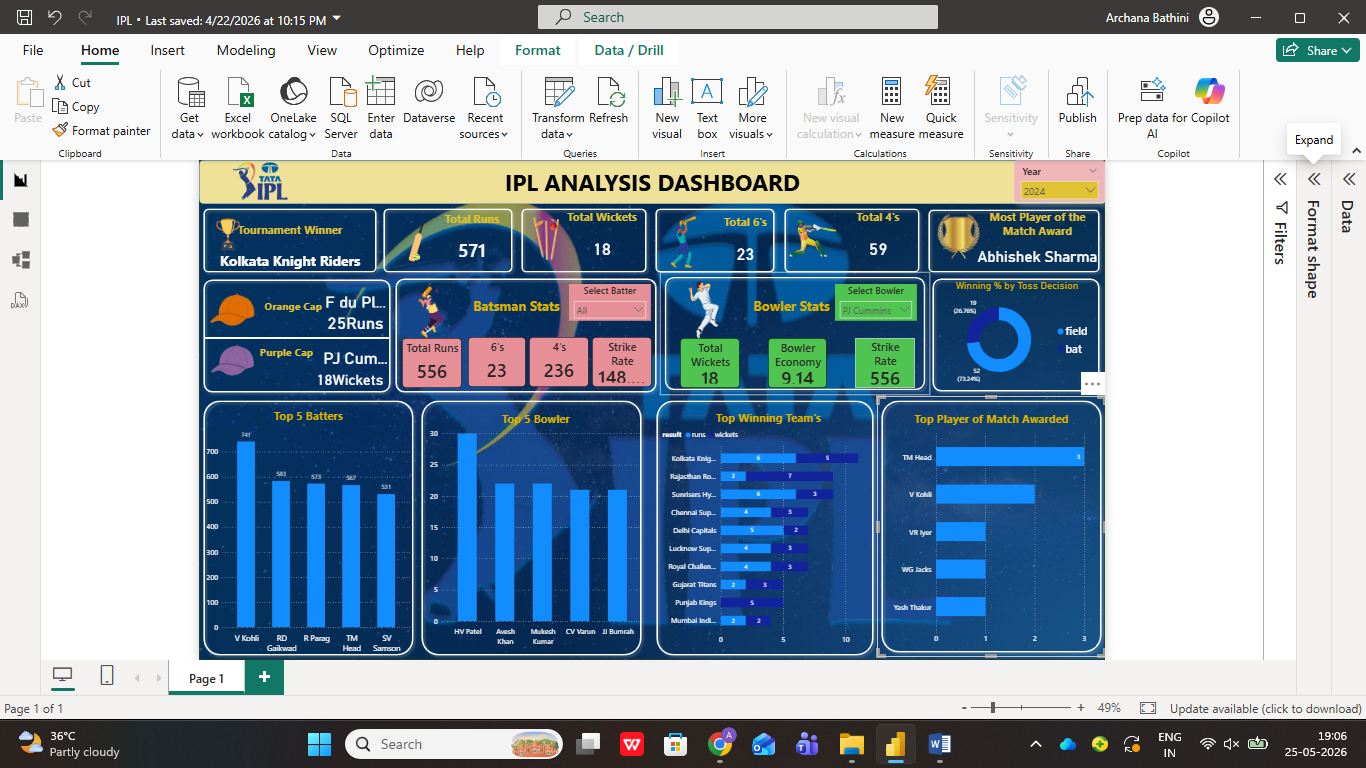

The dashboard page shown, as its layout file describes it:
{"tool":"powerbi","page":{"name":"Page 1","canvas":[1850,1020],"ordinal":0},"visuals":[{"type":"shape","box":[1487.2,232.6,359,248.9],"z":0},{"type":"shape","box":[0,0,1850,90],"z":1000},{"type":"shape","box":[0,89.8,371.3,148.9],"z":2000},{"type":"shape","box":[367.2,89.8,281.5,148.9],"z":3000},{"type":"shape","box":[648.7,89.8,273.4,148.9],"z":4000},{"type":"shape","box":[922.1,89.8,261.1,148.9],"z":5000},{"type":"shape","box":[1479,91.8,367.2,146.9],"z":6000},{"type":"shape","box":[1185.2,89.8,293.8,148.9],"z":7000},{"type":"slicer","fields":{"Values":["Date_Table.Year"]},"box":[1662,0,186,86],"z":8000},{"type":"card","title":"Tournament Winner","fields":{"Values":["matches.TournamentWinner"]},"box":[18.4,126.5,334.6,128.5],"z":9000},{"type":"card","title":"Total Runs","fields":{"Values":["Sum(deliveries.total_runs)"]},"box":[475.3,104,163.2,128.5],"z":10000},{"type":"card","title":"Total Wickets","fields":{"Values":["Sum(deliveries.is_wicket)"]},"box":[734.4,100,175.4,128.5],"z":11000},{"type":"card","title":"Total 6''s","fields":{"Values":["CountNonNull(deliveries.batsman_runs)"]},"box":[1042.4,110.2,144.8,128.5],"z":12000},{"type":"card","title":"Total 4''s","fields":{"Values":["CountNonNull(deliveries.batsman_runs)"]},"box":[1309.7,100,151,128.5],"z":13000},{"type":"card","title":"Most Player of the Match Award","fields":{"Values":["Min(matches.player_of_match)"]},"box":[1574.9,100,271.3,128.5],"z":14000},{"type":"shape","box":[0,234.6,399.8,248.9],"z":15000},{"type":"shape","box":[10.2,355,377.4,16.3],"z":16000},{"type":"textbox","box":[127.9,276.7,141.9,44.2],"z":17000},{"type":"textbox","box":[108.1,371.3,140.8,38.8],"z":18000},{"type":"card","fields":{"Values":["Min(deliveries.batter)"]},"box":[248.9,267.2,140.8,38.8],"z":19000},{"type":"card","fields":{"Values":["deliveries.Orange cap Ho;der Runs"]},"box":[240.7,306,157.1,49],"z":20000},{"type":"card","fields":{"Values":["Min(deliveries.bowler)"]},"box":[242.8,381.5,153,40.8],"z":21000},{"type":"card","fields":{"Values":["deliveries.Purple Cap Holder Wickets"]},"box":[208.1,430.4,199.9,51],"z":22000},{"type":"shape","box":[391.7,232.6,550.8,250.9],"z":23000},{"type":"shape","box":[940.4,228.5,550.8,250.9],"z":24000},{"type":"slicer","title":"Select Batter","fields":{"Values":["deliveries.batter"]},"box":[754.8,253,167.3,75.5],"z":25000},{"type":"card","title":"Total Runs","fields":{"Values":["Sum(deliveries.batsman_runs)"]},"box":[414.1,363.1,122.4,102],"z":26000},{"type":"card","title":"4''s","fields":{"Values":["Sum(deliveries.batsman_runs)"]},"box":[673.2,361.1,122.4,102],"z":27000},{"type":"card","title":"Strike Rate","fields":{"Values":["deliveries.Batsman Strike Rate"]},"box":[801.7,361.1,122.4,102],"z":28000},{"type":"card","title":"6''s","fields":{"Values":["CountNonNull(deliveries.batsman_runs)"]},"box":[548.8,361.1,118.3,102],"z":29000},{"type":"slicer","title":"Select Bowler","fields":{"Values":["deliveries.bowler"]},"box":[1297.4,253,167.3,75.5],"z":30000},{"type":"card","title":" Strike Rate","fields":{"Values":["Sum(deliveries.batsman_runs)"]},"box":[1338.2,363.1,122.4,102],"z":31000},{"type":"card","title":"Total Wickets","fields":{"Values":["Sum(deliveries.is_wicket)"]},"box":[981.2,363.1,122.4,102],"z":32000},{"type":"card","title":"Bowler Economy","fields":{"Values":["deliveries.Bowler Economy"]},"box":[1160.8,363.1,120.4,102],"z":33000},{"type":"textbox","box":[536.5,273.4,222.4,51],"z":34000},{"type":"donutChart","title":"Winning % by Toss Decision","fields":{"Y":["CountNonNull(matches.winner)"],"Category":["matches.toss_decision"]},"box":[1509.6,244.8,318.2,220.3],"z":35000},{"type":"textbox","box":[1116,274,186,46],"z":36000},{"type":"shape","box":[0,481.4,446.8,538.6],"z":37000},{"type":"shape","box":[444.7,481.4,467.2,538.6],"z":38000},{"type":"shape","box":[1383.1,481.4,467.2,532.4],"z":39000},{"type":"columnChart","title":"Top 5 Batters","fields":{"Category":["deliveries.batter"],"Y":["Sum(deliveries.batsman_runs)"]},"box":[10.2,505.9,426.4,508],"z":40000},{"type":"columnChart","title":"Top 5  Bowler","fields":{"Category":["deliveries.bowler"],"Y":["Sum(deliveries.is_wicket)"]},"box":[463.1,512,448.8,487.6],"z":41000},{"type":"barChart","title":"Top Winning Team''s","fields":{"Category":["matches.winner"],"Y":["CountNonNull(matches.winner)"],"Series":["matches.result"]},"box":[940,510,442.5,487.5],"z":42000},{"type":"shape","box":[924.1,481.4,461,538.6],"z":43000},{"type":"barChart","title":"Top Player of Match Awarded","fields":{"Category":["matches.player_of_match"],"Y":["CountNonNull(matches.player_of_match)"]},"box":[1404.9,511.5,423,485.2],"z":44000},{"type":"image","box":[1195.4,97.9,114.2,130.6],"z":45000},{"type":"image","box":[928.2,106.1,124.4,122.4],"z":46000},{"type":"image","box":[408,234.6,126.5,151],"z":47000},{"type":"image","box":[964.9,242.8,128.5,126.5],"z":48000},{"type":"image","box":[656.9,106.1,102,114.2],"z":49000},{"type":"image","box":[379.4,112.2,128.5,110.2],"z":50000},{"type":"image","box":[1489.2,95.9,126.5,124.4],"z":51000},{"type":"image","box":[18.4,250.9,102,110.2],"z":52000},{"type":"image","box":[18.4,355,102,108.1],"z":53000},{"type":"image","box":[18.4,0,212.2,85.7],"z":54000},{"type":"image","box":[18.4,106.1,81.6,91.8],"z":55000}]}

Visuals, with their boxes on the page's 1850x1020 design canvas (x1, y1, x2, y2). These are canvas units, not pixel positions in the 1366x768 screenshot, which may show the page scaled, cropped or inside an application window:
shape: box=[1487, 233, 1846, 482]
shape: box=[0, 0, 1850, 90]
shape: box=[0, 90, 371, 239]
shape: box=[367, 90, 649, 239]
shape: box=[649, 90, 922, 239]
shape: box=[922, 90, 1183, 239]
shape: box=[1479, 92, 1846, 239]
shape: box=[1185, 90, 1479, 239]
slicer - Date_Table.Year: box=[1662, 0, 1848, 86]
"Tournament Winner" card: box=[18, 126, 353, 255]
"Total Runs" card: box=[475, 104, 638, 232]
"Total Wickets" card: box=[734, 100, 910, 228]
"Total 6''s" card: box=[1042, 110, 1187, 239]
"Total 4''s" card: box=[1310, 100, 1461, 228]
"Most Player of the Match Award" card: box=[1575, 100, 1846, 228]
shape: box=[0, 235, 400, 484]
shape: box=[10, 355, 388, 371]
textbox: box=[128, 277, 270, 321]
textbox: box=[108, 371, 249, 410]
card - Min(deliveries.batter): box=[249, 267, 390, 306]
card - deliveries.Orange cap Ho;der Runs: box=[241, 306, 398, 355]
card - Min(deliveries.bowler): box=[243, 382, 396, 422]
card - deliveries.Purple Cap Holder Wickets: box=[208, 430, 408, 481]
shape: box=[392, 233, 942, 484]
shape: box=[940, 228, 1491, 479]
"Select Batter" slicer: box=[755, 253, 922, 328]
"Total Runs" card: box=[414, 363, 536, 465]
"4''s" card: box=[673, 361, 796, 463]
"Strike Rate" card: box=[802, 361, 924, 463]
"6''s" card: box=[549, 361, 667, 463]
"Select Bowler" slicer: box=[1297, 253, 1465, 328]
" Strike Rate" card: box=[1338, 363, 1461, 465]
"Total Wickets" card: box=[981, 363, 1104, 465]
"Bowler Economy" card: box=[1161, 363, 1281, 465]
textbox: box=[536, 273, 759, 324]
"Winning % by Toss Decision" donutChart: box=[1510, 245, 1828, 465]
textbox: box=[1116, 274, 1302, 320]
shape: box=[0, 481, 447, 1020]
shape: box=[445, 481, 912, 1020]
shape: box=[1383, 481, 1850, 1014]
"Top 5 Batters" columnChart: box=[10, 506, 437, 1014]
"Top 5  Bowler" columnChart: box=[463, 512, 912, 1000]
"Top Winning Team''s" barChart: box=[940, 510, 1382, 998]
shape: box=[924, 481, 1385, 1020]
"Top Player of Match Awarded" barChart: box=[1405, 512, 1828, 997]
image: box=[1195, 98, 1310, 228]
image: box=[928, 106, 1053, 228]
image: box=[408, 235, 534, 386]
image: box=[965, 243, 1093, 369]
image: box=[657, 106, 759, 220]
image: box=[379, 112, 508, 222]
image: box=[1489, 96, 1616, 220]
image: box=[18, 251, 120, 361]
image: box=[18, 355, 120, 463]
image: box=[18, 0, 231, 86]
image: box=[18, 106, 100, 198]
